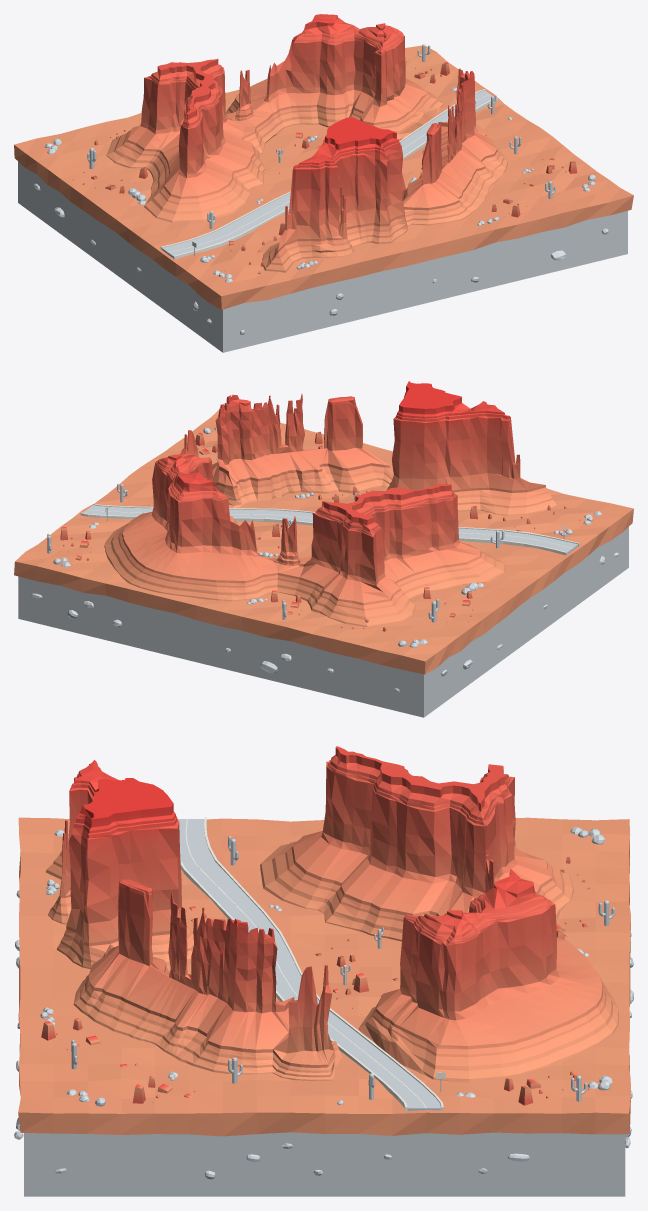
File: Cartoon_Lowpoly_Monument_Valley_Landmark.glb
3 renders of one model, top to bottom at view 1: azimuth 30°, elevation 25°; view 2: azimuth 150°, elevation 25°; view 3: azimuth 270°, elevation 25°, orthographic. The views are drawn at different scales.
Parts seen in each view (by area): view 1: Monument_Valley_2_Rock_0, Cube_3_3_Rock_0, Cube_2_3_Ground_0, Cube_1_2_Ground_0, Cube_2_2_Ground_0, Sweep_1_Asphalt_0, Sweep_3_White_0, Stones_3_2_Floor_0, Sweep_4_White_0; view 2: Monument_Valley_2_Rock_0, Cube_3_3_Rock_0, Cube_2_3_Ground_0, Cube_1_2_Ground_0, Cube_2_2_Ground_0, Sweep_1_Asphalt_0, Sweep_4_White_0, Stones_3_2_Floor_0, Sweep_3_White_0; view 3: Monument_Valley_2_Rock_0, Cube_3_3_Rock_0, Cube_2_3_Ground_0, Cube_1_2_Ground_0, Cube_2_2_Ground_0, Sweep_1_Asphalt_0, Sweep_4_White_0, Stones_3_2_Floor_0, Sweep_3_White_0.
Boxes of the visible parts, <box> form: Monument_Valley_2_Rock_0: <box>106,14,507,272</box>; Cube_3_3_Rock_0: <box>14,45,633,309</box>; Cube_2_3_Ground_0: <box>18,161,627,328</box>; Cube_1_2_Ground_0: <box>18,179,627,341</box>; Cube_2_2_Ground_0: <box>18,192,627,352</box>; Sweep_1_Asphalt_0: <box>162,90,494,258</box>; Sweep_3_White_0: <box>173,98,497,259</box>; Stones_3_2_Floor_0: <box>34,183,608,334</box>; Sweep_4_White_0: <box>160,89,485,249</box>; Monument_Valley_2_Rock_0: <box>104,381,557,626</box>; Cube_3_3_Rock_0: <box>14,409,633,674</box>; Cube_2_3_Ground_0: <box>18,527,628,693</box>; Cube_1_2_Ground_0: <box>18,544,628,706</box>; Cube_2_2_Ground_0: <box>18,557,628,717</box>; Sweep_1_Asphalt_0: <box>83,505,578,554</box>; Sweep_4_White_0: <box>80,512,566,555</box>; Stones_3_2_Floor_0: <box>31,552,618,692</box>; Sweep_3_White_0: <box>93,503,579,546</box>; Monument_Valley_2_Rock_0: <box>46,746,618,1082</box>; Cube_3_3_Rock_0: <box>18,817,630,1136</box>; Cube_2_3_Ground_0: <box>24,1132,625,1161</box>; Cube_1_2_Ground_0: <box>24,1161,625,1180</box>; Cube_2_2_Ground_0: <box>24,1180,625,1196</box>; Sweep_1_Asphalt_0: <box>177,819,440,1110</box>; Sweep_4_White_0: <box>204,817,443,1110</box>; Stones_3_2_Floor_0: <box>14,890,633,1179</box>; Sweep_3_White_0: <box>180,859,407,1111</box>.
Bounding box in the file's own units: 14112 × 5063 × 12477.
Materials: 4 (1 with a texture image).
